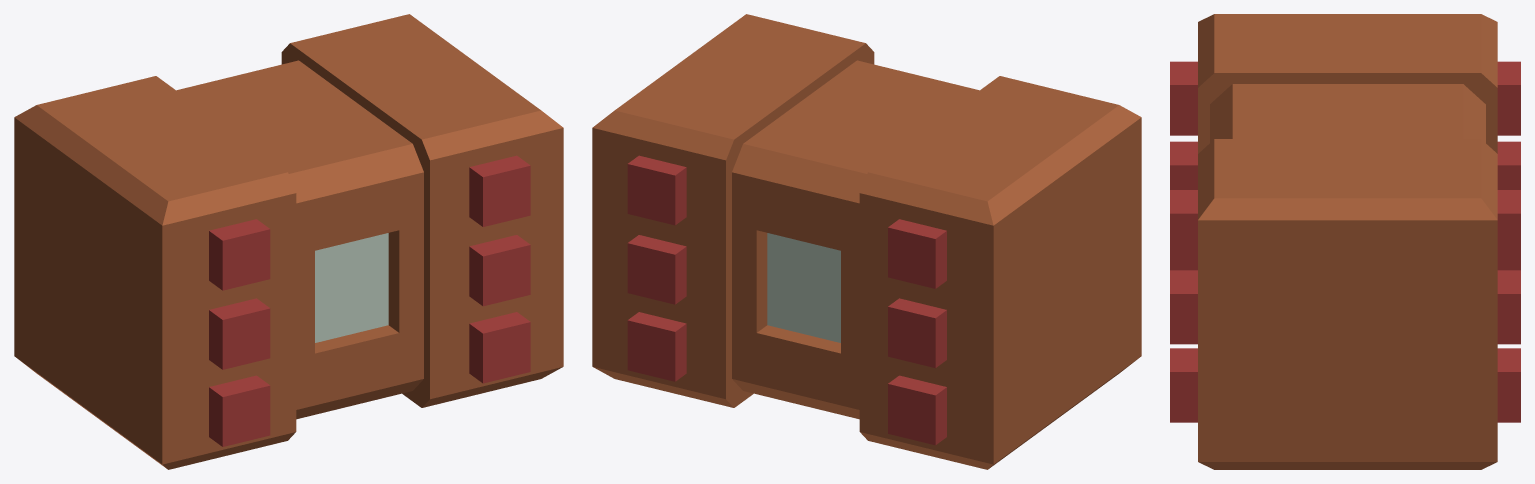
Rendered from Crate2.fbx.
The picture shows the model from 3 angles, left to right: view 1: azimuth 30°, elevation 25°; view 2: azimuth 150°, elevation 25°; view 3: azimuth 270°, elevation 25°; orthographic projection.
Parts seen in each view (by area): view 1: Crate1; view 2: Crate1; view 3: Crate1.
Part boxes in pixels (box(x1,y1,x2,y2)): Crate1: box(14, 14, 563, 469); Crate1: box(592, 14, 1141, 469); Crate1: box(1170, 14, 1520, 469).
Bounding box in the file's own units: 727 × 465 × 544.
